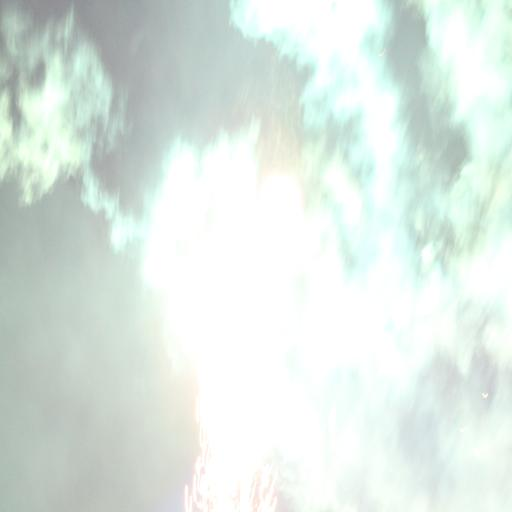la: (66, 165, 70, 176)
